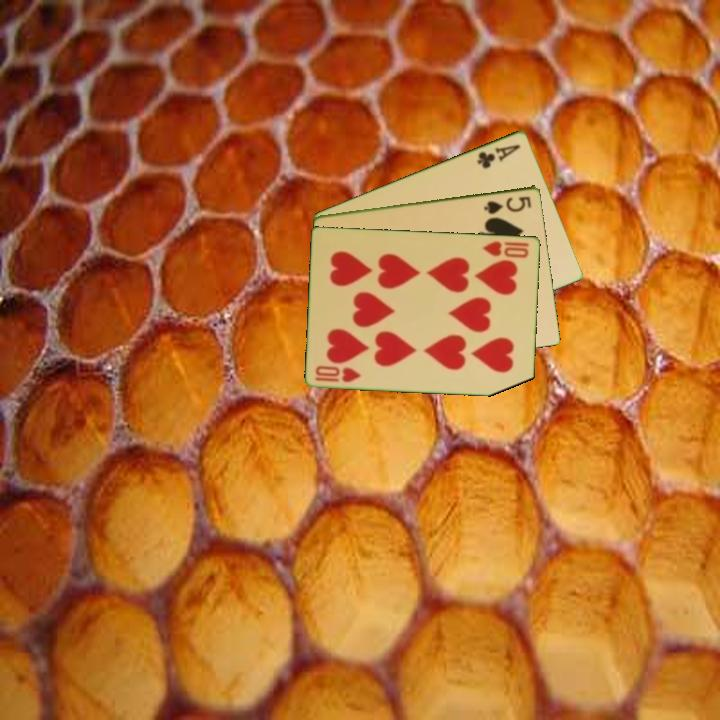10h: (479, 237, 532, 260), (312, 362, 364, 385)
5s: (481, 192, 534, 217)
Ac: (473, 140, 524, 171)
